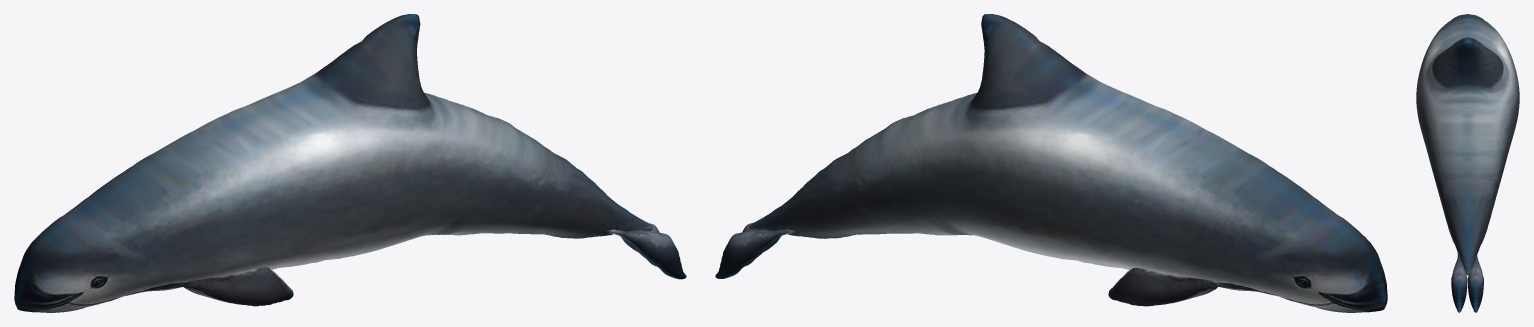
The model's file is vaquita.glb.
The picture shows the model from 3 angles, left to right: view 1: azimuth 30°, elevation 25°; view 2: azimuth 150°, elevation 25°; view 3: azimuth 270°, elevation 25°; orthographic projection. The views are drawn at different scales.
Visible parts, largest first — view 1: mm_frame (8); view 2: mm_frame (8); view 3: mm_frame (8).
Boxes of the visible parts, x1=… form: mm_frame (8): x1=14, y1=14, x2=686, y2=312; mm_frame (8): x1=715, y1=14, x2=1387, y2=312; mm_frame (8): x1=1416, y1=14, x2=1519, y2=312.
Size of the model in its own units: 9.35 by 4.37 by 2.1.
1 material, 1 textured.
